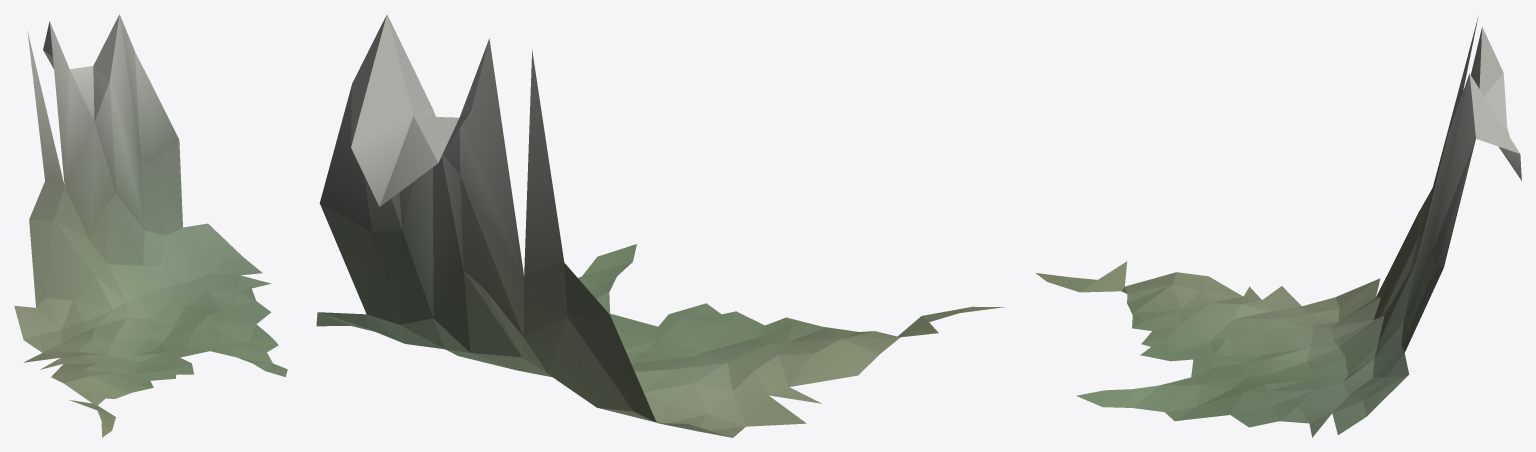
3 views of the same model, side by side, from view 1: azimuth 30°, elevation 25°; view 2: azimuth 150°, elevation 25°; view 3: azimuth 270°, elevation 25° (orthographic). The views are drawn at different scales.
Visible parts, largest first — view 1: 孟加拉湿地; view 2: 孟加拉湿地; view 3: 孟加拉湿地.
Boxes of the visible parts, box(x1,y1,x2,y2) form: 孟加拉湿地: box(14, 14, 287, 437); 孟加拉湿地: box(316, 14, 1004, 437); 孟加拉湿地: box(1036, 17, 1521, 437).
Size of the model in its own units: 8.03 by 7.14 by 9.56.
